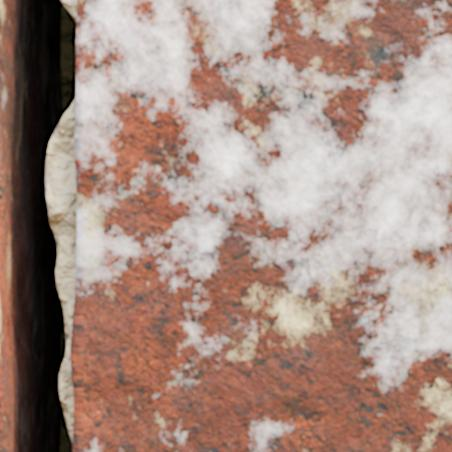brick: (71, 0, 451, 451), (0, 43, 9, 451)
crack: (0, 0, 77, 451)
